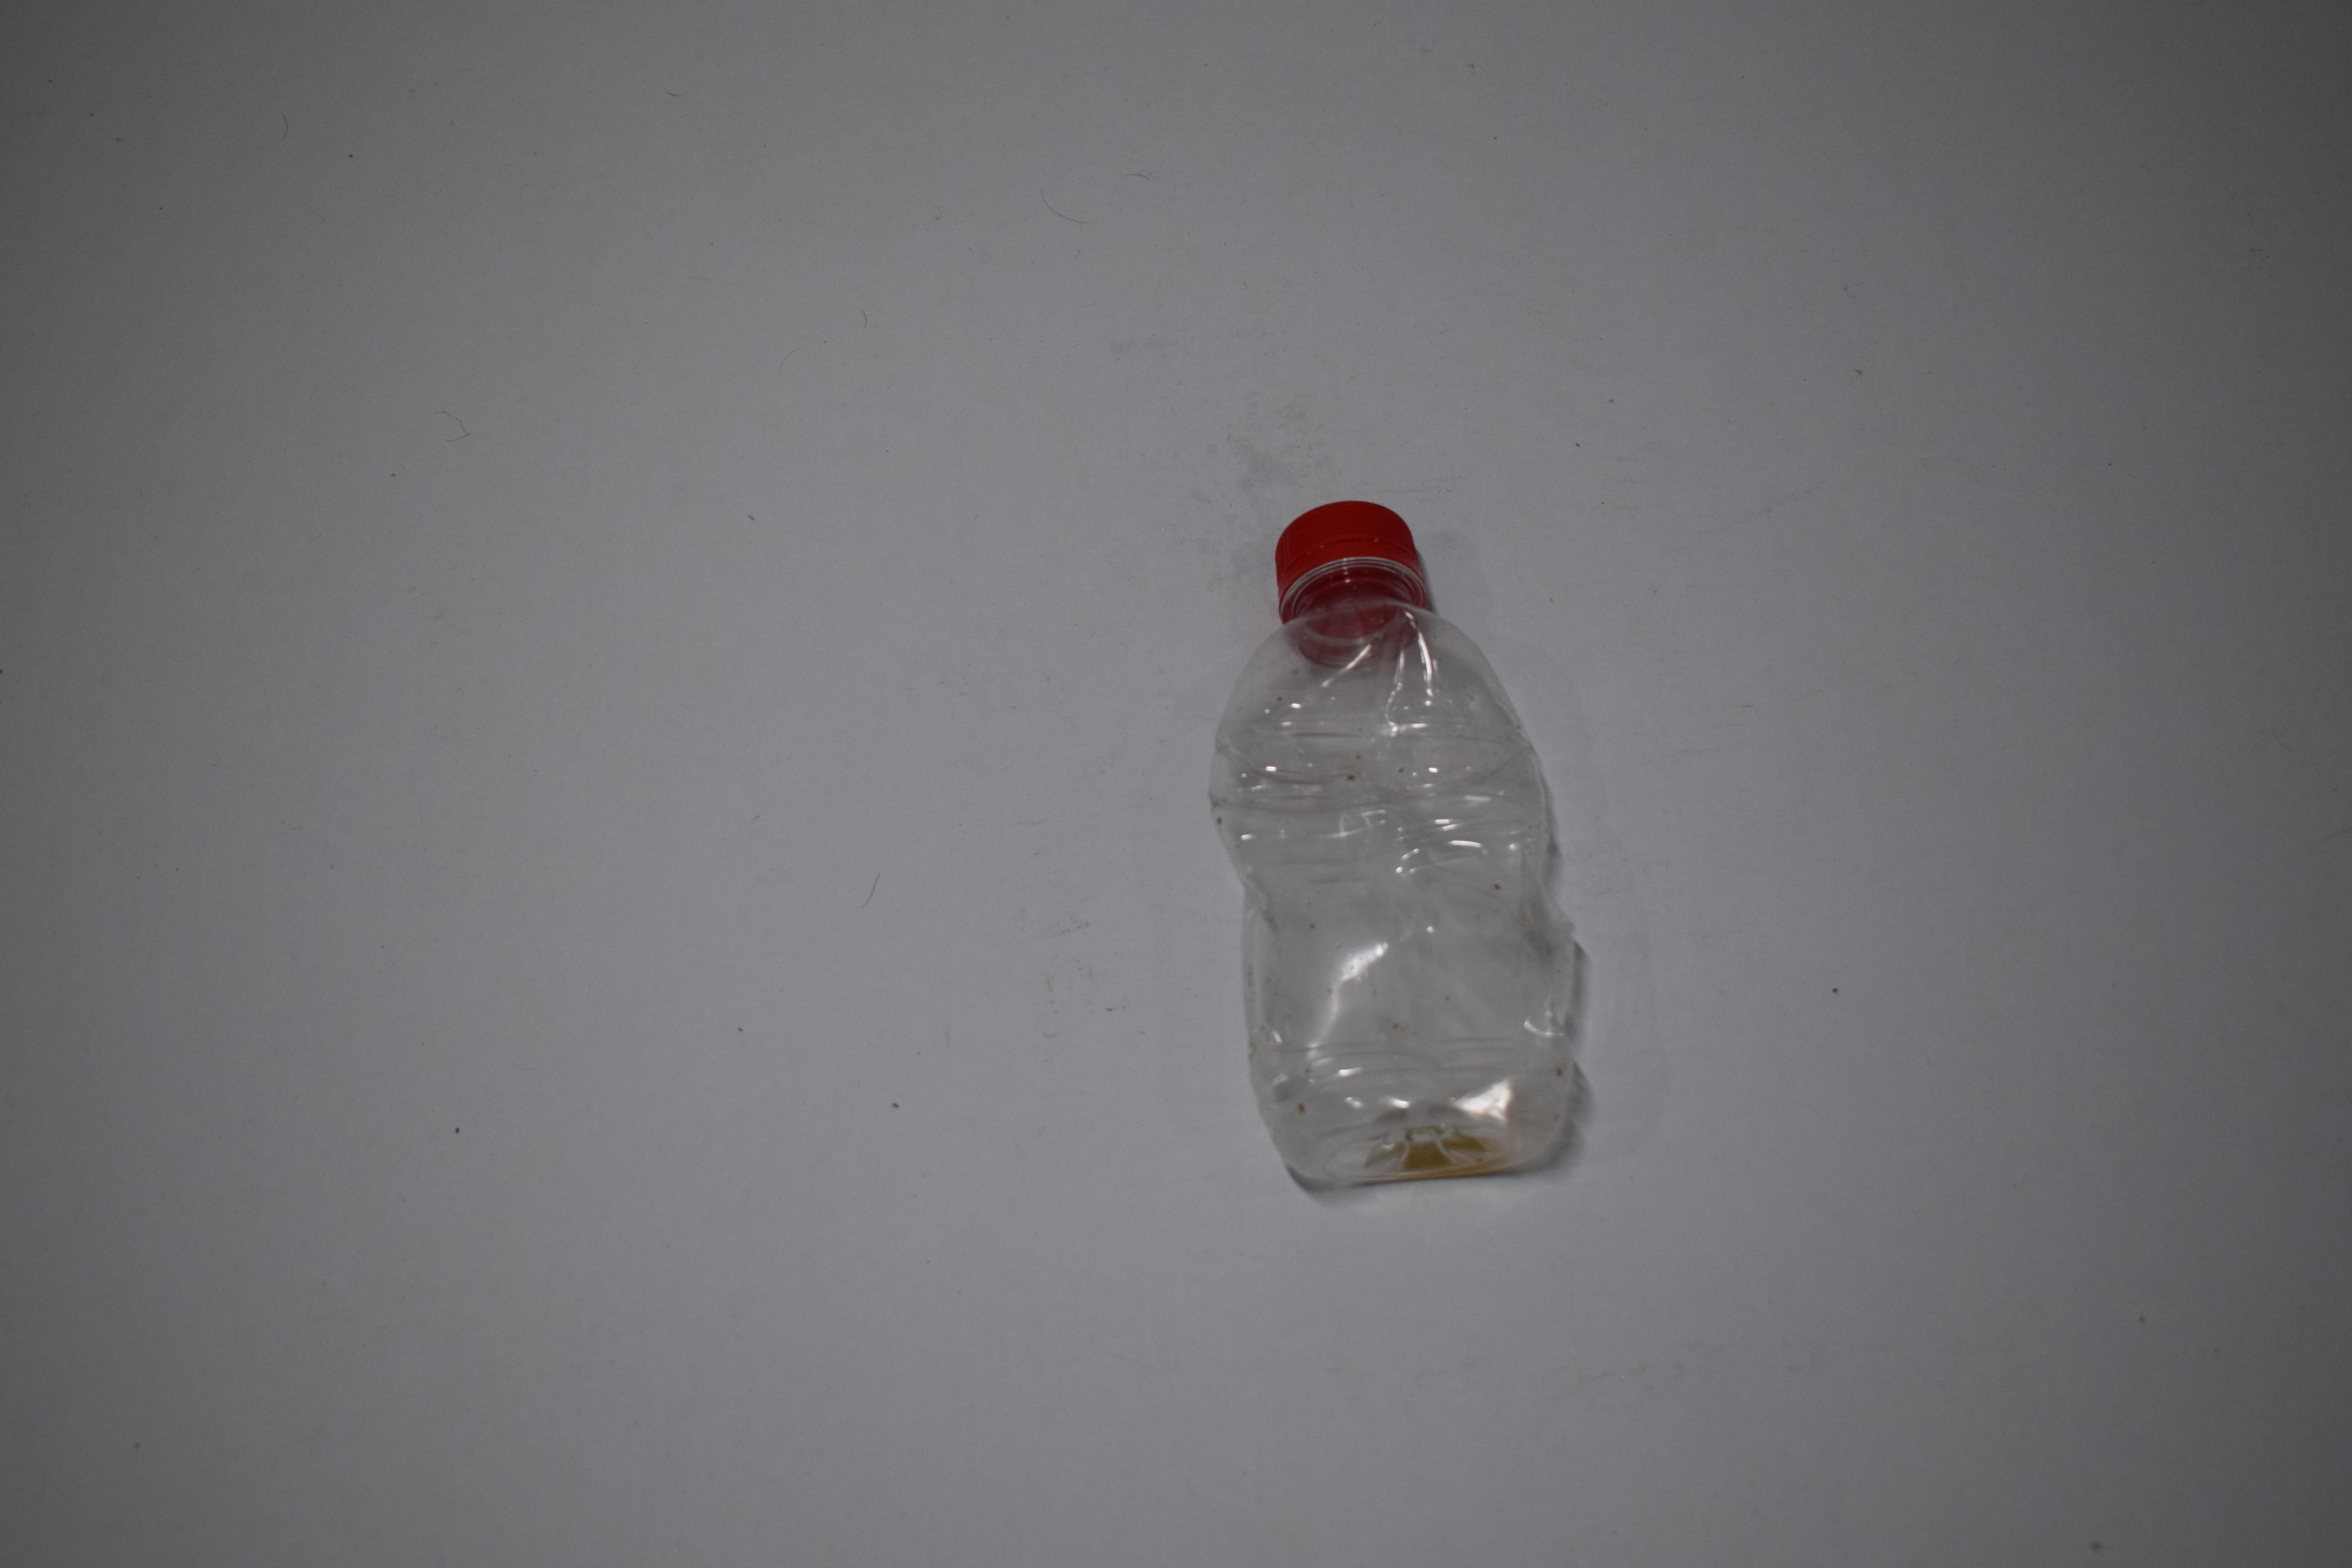bottle: (16, 0, 411, 380)
